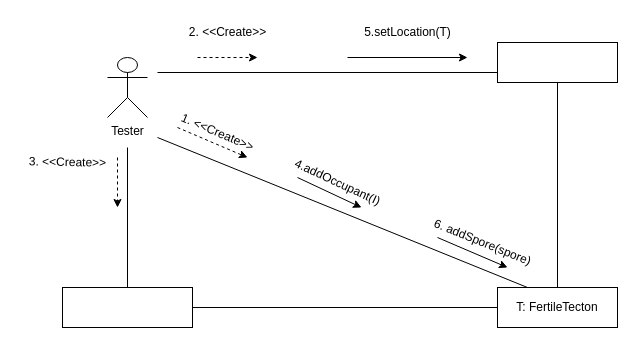
This 635x345 diagram has some shape labels left out. The shapes that lost their labels are listed below. From the top down, each one's centre as x and y in pixels, then its label:
[557,62]: I: Insect
[127,307]: spore: SpeedSpore
